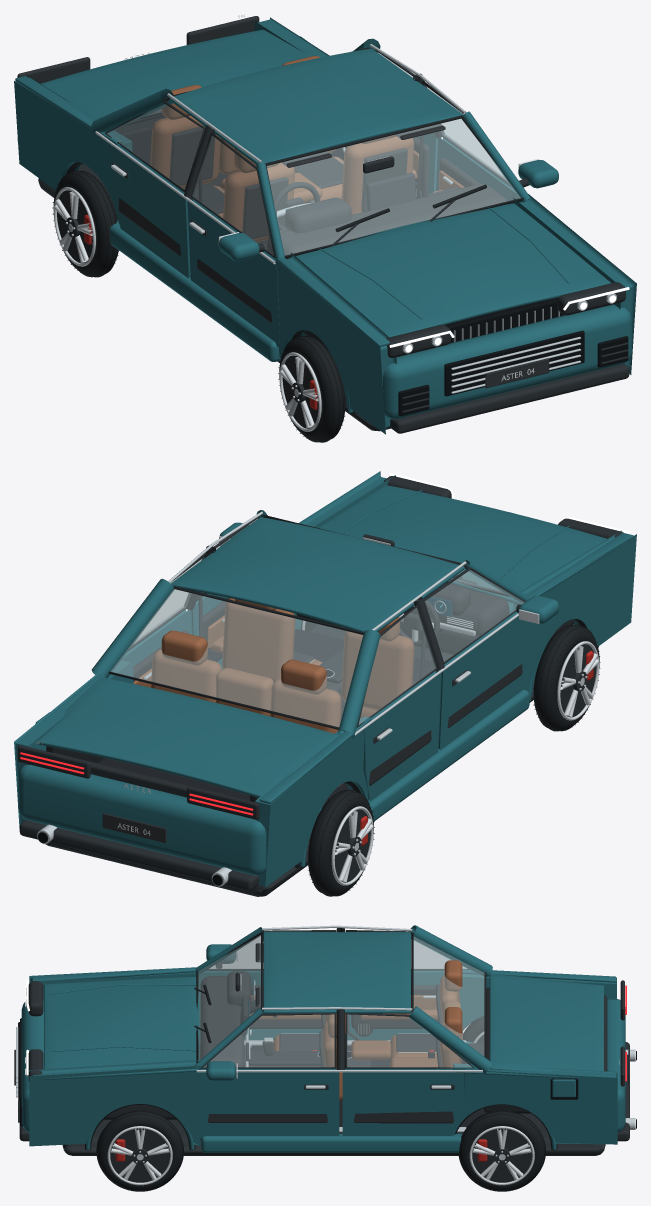
File: aster_sedan.glb
3 renders of one model, top to bottom at view 1: azimuth 30°, elevation 25°; view 2: azimuth 150°, elevation 25°; view 3: azimuth 270°, elevation 25°, orthographic. The views are drawn at different scales.
Visible parts, largest first — view 1: Aster_Sedan__Paint_DeepPetrol_MetallicClearcoat, Hood__Paint_DeepPetrol_MetallicClearcoat, Aster_Sedan__Glass_Laminated_Smoke, Aster_Sedan__Leather_Charcoal, Aster_Sedan__Trim_SatinGraphite, Trunk__Paint_DeepPetrol_MetallicClearcoat, Aster_Sedan__Leather_Saddle, Door_FL__Paint_DeepPetrol_MetallicClearcoat, Aster_Sedan__Cavity_Black, Door_RL__Paint_DeepPetrol_MetallicClearcoat, Door_FL__Glass_Laminated_Smoke, Door_RL__Glass_Laminated_Smoke (+16 smaller); view 2: Aster_Sedan__Paint_DeepPetrol_MetallicClearcoat, Trunk__Paint_DeepPetrol_MetallicClearcoat, Aster_Sedan__Glass_Laminated_Smoke, Aster_Sedan__Leather_Saddle, Hood__Paint_DeepPetrol_MetallicClearcoat, Aster_Sedan__Trim_SatinGraphite, Door_FL__Paint_DeepPetrol_MetallicClearcoat, Door_RL__Paint_DeepPetrol_MetallicClearcoat, Door_FL__Glass_Laminated_Smoke, Aster_Sedan__Leather_Charcoal, Door_RL__Glass_Laminated_Smoke, Aster_Sedan__Carpet_Anthracite (+16 smaller); view 3: Aster_Sedan__Paint_DeepPetrol_MetallicClearcoat, Hood__Paint_DeepPetrol_MetallicClearcoat, Trunk__Paint_DeepPetrol_MetallicClearcoat, Aster_Sedan__Glass_Laminated_Smoke, Door_FR__Paint_DeepPetrol_MetallicClearcoat, Aster_Sedan__Trim_SatinGraphite, Door_RR__Paint_DeepPetrol_MetallicClearcoat, Aster_Sedan__Leather_Charcoal, Door_FR__Glass_Laminated_Smoke, Door_RR__Glass_Laminated_Smoke, Aster_Sedan__Leather_Saddle, Wheel_FR__Rubber_Tire (+24 smaller).
Boxes of the visible parts, <box> form: Aster_Sedan__Paint_DeepPetrol_MetallicClearcoat: <box>14,17,636,434</box>; Hood__Paint_DeepPetrol_MetallicClearcoat: <box>287,202,611,337</box>; Aster_Sedan__Glass_Laminated_Smoke: <box>147,110,520,255</box>; Aster_Sedan__Leather_Charcoal: <box>169,124,549,388</box>; Aster_Sedan__Trim_SatinGraphite: <box>17,16,629,433</box>; Trunk__Paint_DeepPetrol_MetallicClearcoat: <box>40,29,317,120</box>; Aster_Sedan__Leather_Saddle: <box>150,56,414,241</box>; Door_FL__Paint_DeepPetrol_MetallicClearcoat: <box>187,198,279,347</box>; Aster_Sedan__Cavity_Black: <box>303,201,628,415</box>; Door_RL__Paint_DeepPetrol_MetallicClearcoat: <box>108,143,190,278</box>; Door_FL__Glass_Laminated_Smoke: <box>193,136,273,255</box>; Door_RL__Glass_Laminated_Smoke: <box>107,104,203,189</box>; Aster_Sedan__Paint_DeepPetrol_MetallicClearcoat: <box>14,471,636,887</box>; Trunk__Paint_DeepPetrol_MetallicClearcoat: <box>38,677,339,797</box>; Aster_Sedan__Glass_Laminated_Smoke: <box>111,569,504,726</box>; Aster_Sedan__Leather_Saddle: <box>151,598,414,786</box>; Hood__Paint_DeepPetrol_MetallicClearcoat: <box>319,485,606,604</box>; Aster_Sedan__Trim_SatinGraphite: <box>18,476,623,896</box>; Door_FL__Paint_DeepPetrol_MetallicClearcoat: <box>438,595,559,750</box>; Door_RL__Paint_DeepPetrol_MetallicClearcoat: <box>363,670,440,801</box>; Door_FL__Glass_Laminated_Smoke: <box>425,570,524,661</box>; Aster_Sedan__Leather_Charcoal: <box>102,582,509,842</box>; Door_RL__Glass_Laminated_Smoke: <box>359,607,435,724</box>; Aster_Sedan__Carpet_Anthracite: <box>46,629,438,819</box>; Aster_Sedan__Paint_DeepPetrol_MetallicClearcoat: <box>21,925,625,1152</box>; Hood__Paint_DeepPetrol_MetallicClearcoat: <box>44,977,199,1069</box>; Trunk__Paint_DeepPetrol_MetallicClearcoat: <box>489,974,603,1071</box>; Aster_Sedan__Glass_Laminated_Smoke: <box>198,935,484,1059</box>; Door_FR__Paint_DeepPetrol_MetallicClearcoat: <box>196,1061,339,1138</box>; Aster_Sedan__Trim_SatinGraphite: <box>18,928,629,1155</box>; Door_RR__Paint_DeepPetrol_MetallicClearcoat: <box>342,1068,464,1135</box>; Aster_Sedan__Leather_Charcoal: <box>14,943,629,1085</box>; Door_FR__Glass_Laminated_Smoke: <box>203,1014,334,1067</box>; Door_RR__Glass_Laminated_Smoke: <box>347,1014,471,1067</box>; Aster_Sedan__Leather_Saddle: <box>273,960,462,1100</box>; Wheel_FR__Rubber_Tire: <box>96,1111,183,1191</box>.
Size of the model in its own units: 2.36 by 1.51 by 4.85.
